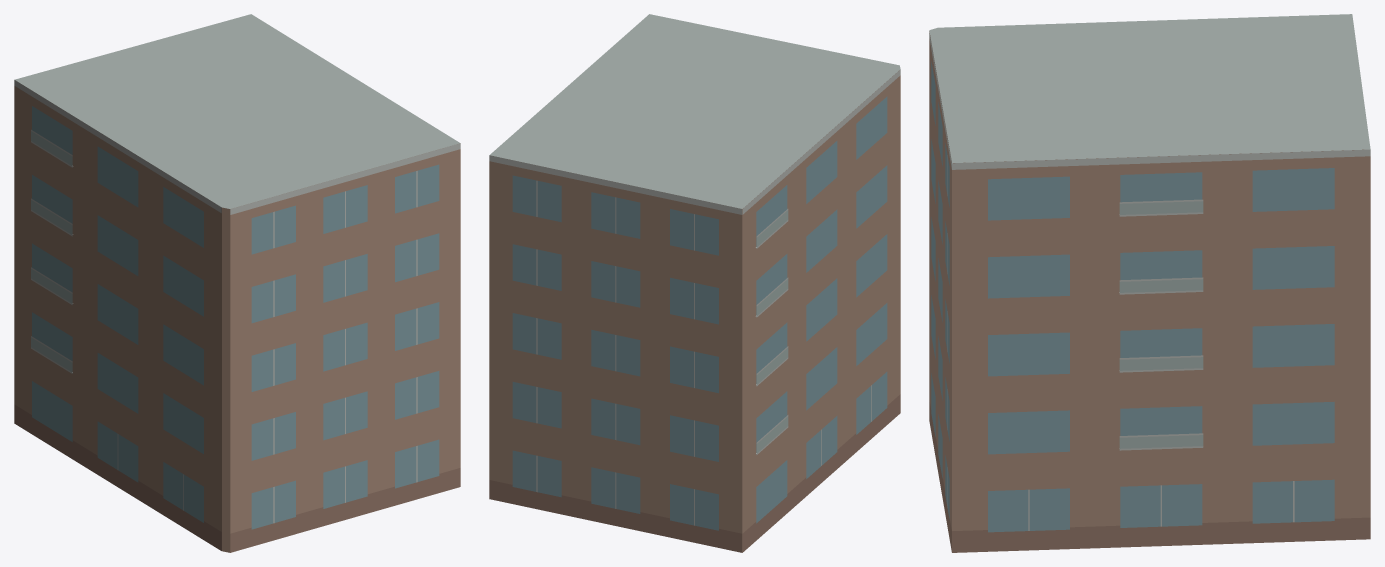
File: survey-upis-32782064.glb
3 views of the same model, side by side, from view 1: azimuth 30°, elevation 25°; view 2: azimuth 150°, elevation 25°; view 3: azimuth 270°, elevation 25° (orthographic). The views are drawn at different scales.
Visible parts, largest first — view 1: survey-upis-32782064.tmp; view 2: survey-upis-32782064.tmp; view 3: survey-upis-32782064.tmp.
Boxes of the visible parts, <box> form: survey-upis-32782064.tmp: <box>14,14,460,552</box>; survey-upis-32782064.tmp: <box>489,14,900,552</box>; survey-upis-32782064.tmp: <box>929,14,1370,552</box>.
Size of the model in its own units: 11.5 by 14 by 14.38.
